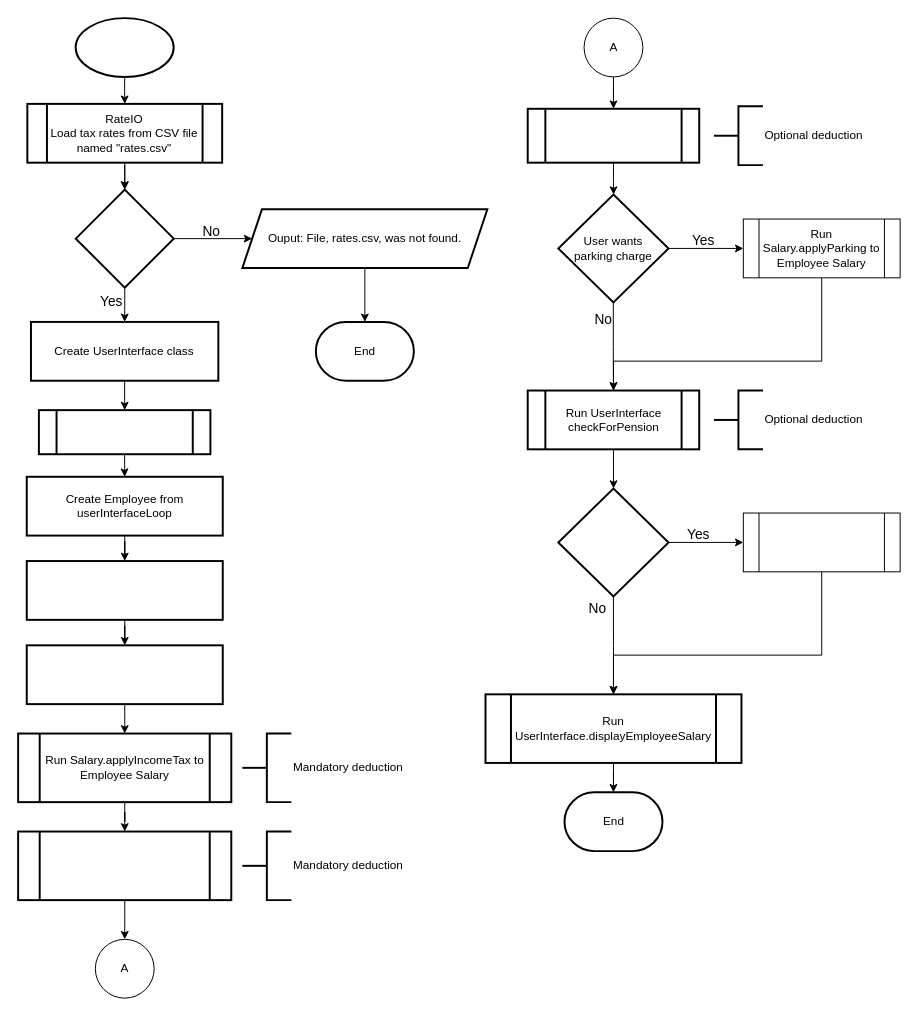
Some shapes in this 917 by 1015 pixel diagram are drawn without their labels. Here are the shapes that lost their labels. From the top down, the box of each, then its label:
(74, 17, 174, 77): Main Start
(526, 107, 700, 163): Run UserInterface checkForParking
(74, 188, 174, 288): File found and read
(37, 409, 211, 455): Run UserInterface loop
(557, 487, 669, 597): User wants pension charge
(742, 512, 900, 572): Run Salary.applyPension to Employee Salary
(25, 560, 223, 620): Set Employee Salary to userInterfaceLoop
(25, 644, 223, 705): Pass tax rates into Employee Salary
(17, 830, 232, 901): Run Salary.applyNationalInsurnace to Employee Salary
